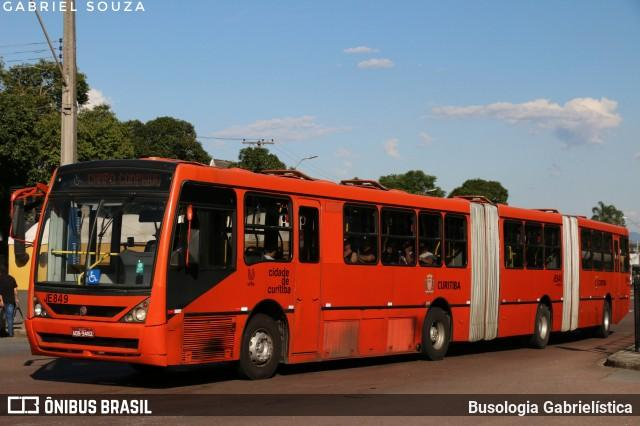CAMPO COMPRIDO: (84, 169, 163, 187)
